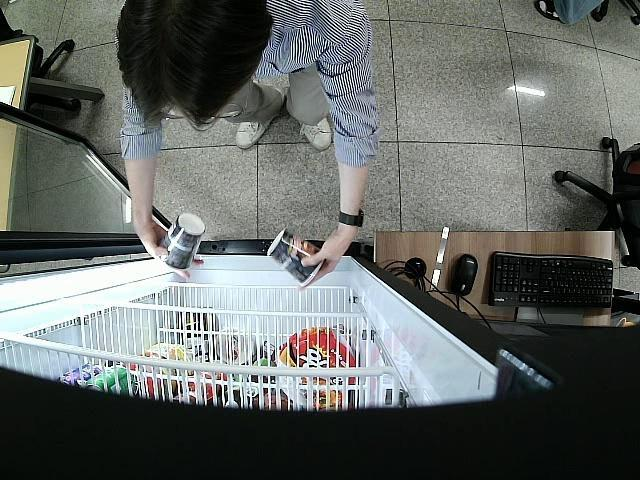08_buldak_S: (266, 229, 322, 286), (159, 214, 206, 269)
